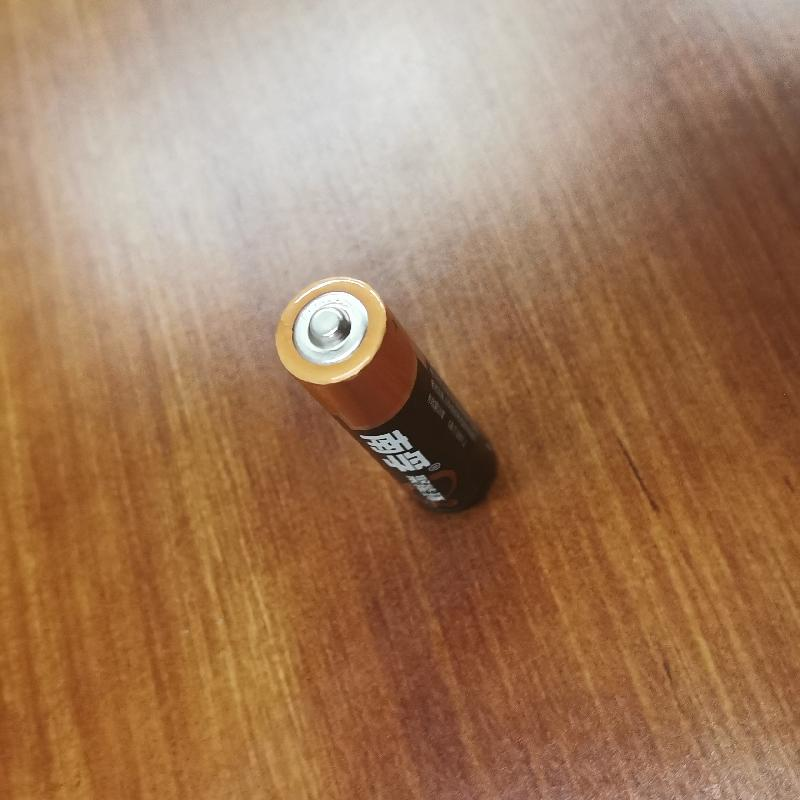battery: (272, 272, 503, 519)
